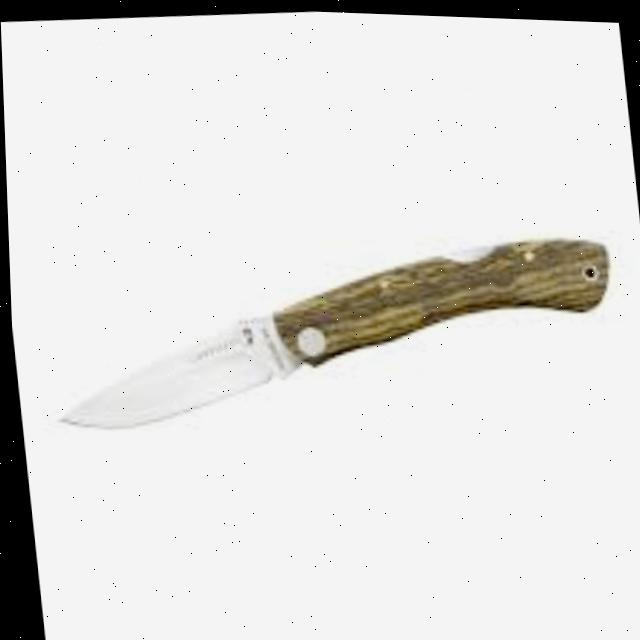knife: (36, 212, 620, 446)
